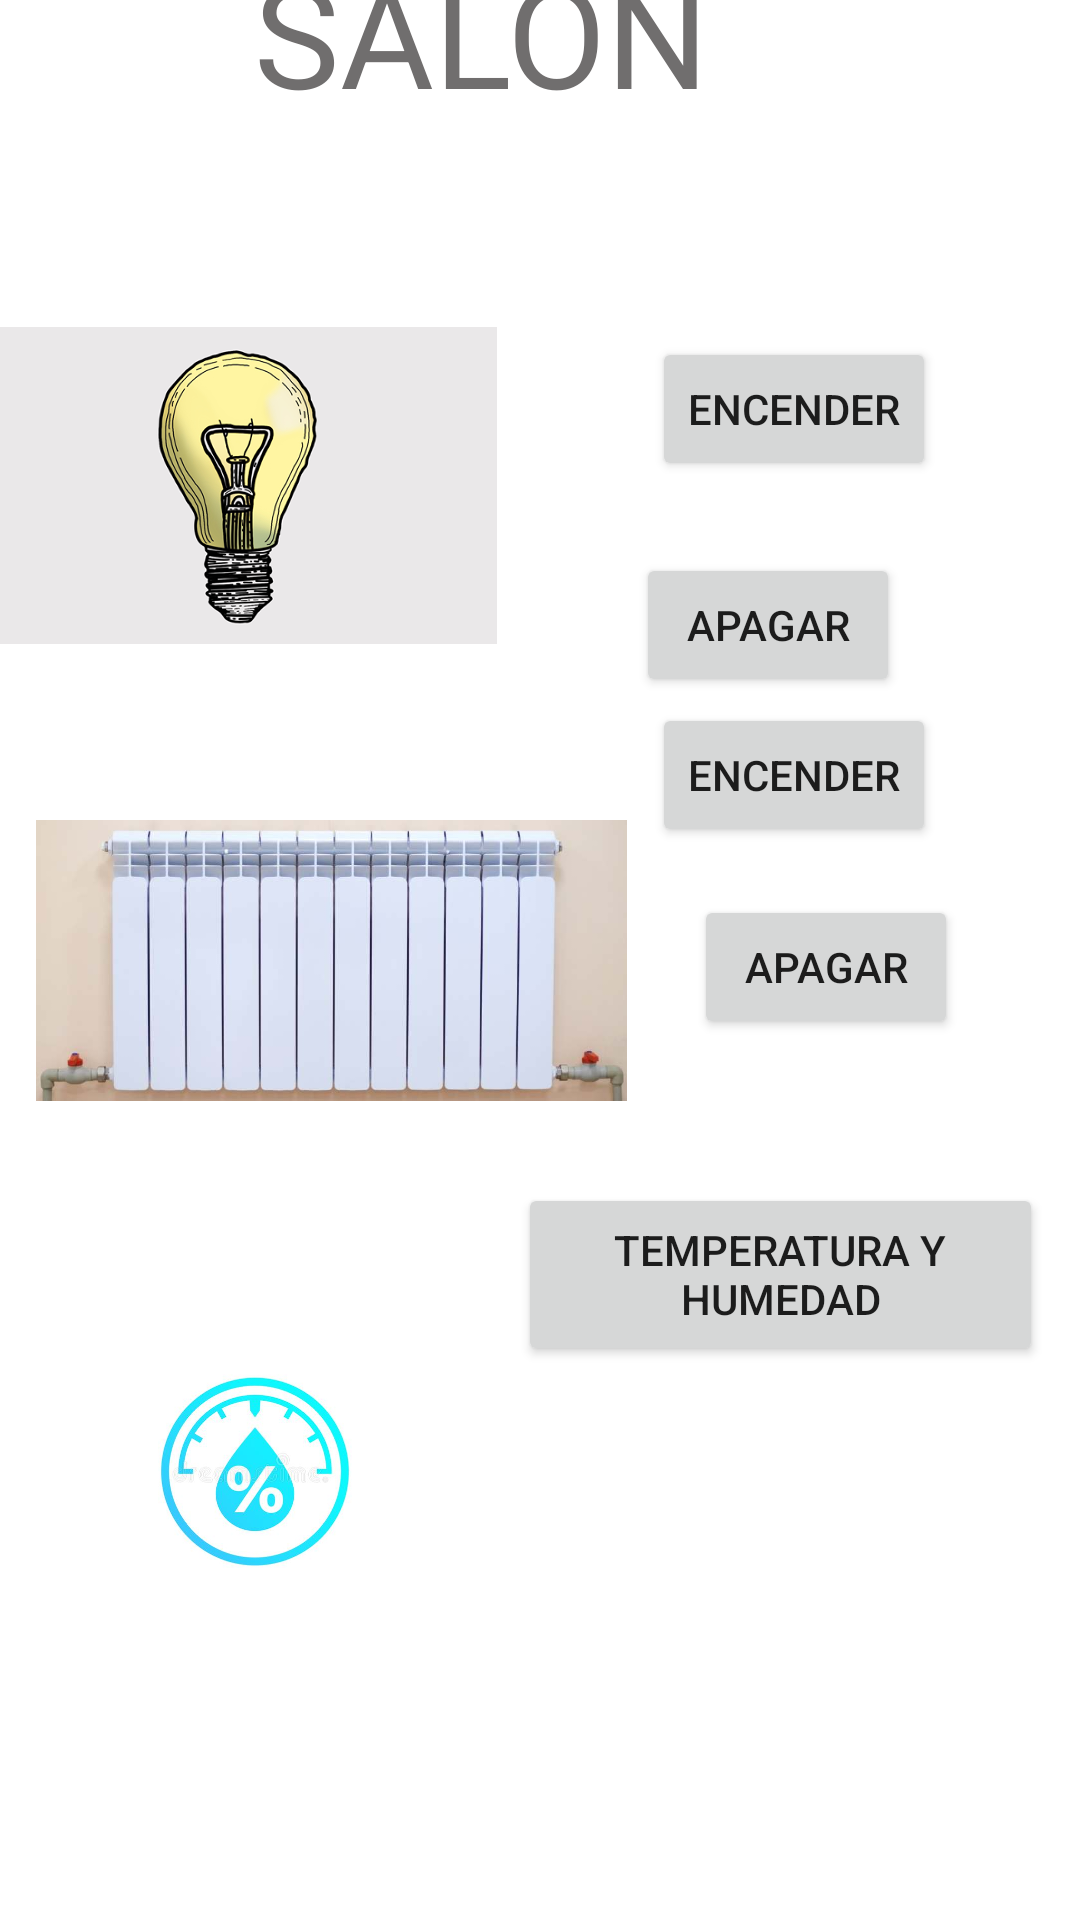

Locate icon controls on the screen. Image size 1080*1920, boxes as (x1, y1, x2, y2).
luz: (156, 350, 319, 624)
